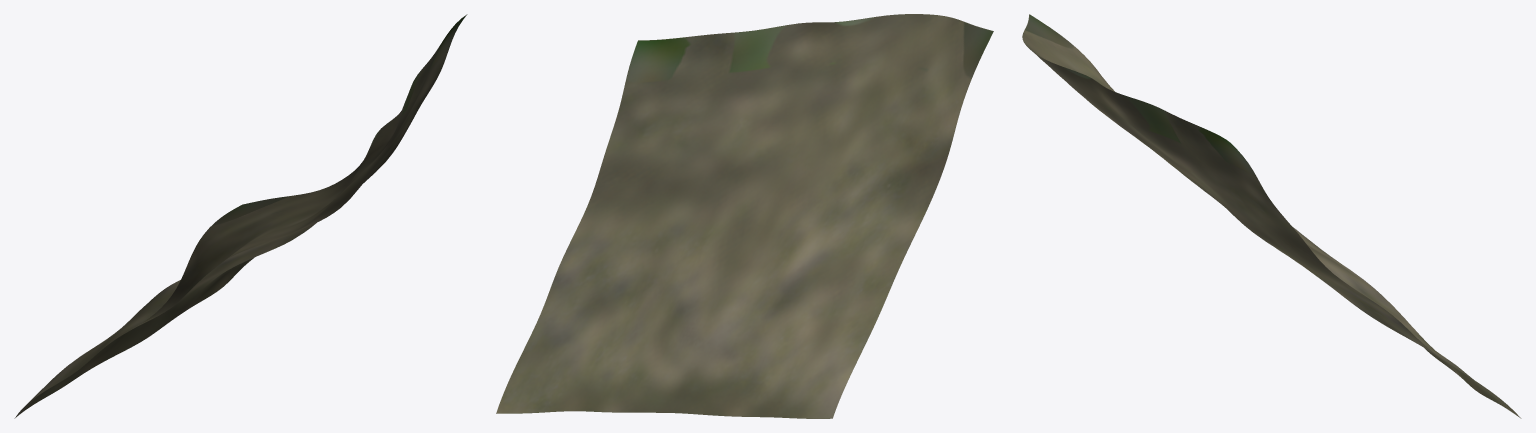
The model's file is ground_mid_06_09.obj.
The picture shows the model from 3 angles, left to right: view 1: azimuth 30°, elevation 25°; view 2: azimuth 150°, elevation 25°; view 3: azimuth 270°, elevation 25°; orthographic projection. The views are drawn at different scales.
Parts seen in each view (by area): view 1: ground_mid_06_09; view 2: ground_mid_06_09; view 3: ground_mid_06_09.
Boxes of the visible parts, box(x1,y1,x2,y2) form: ground_mid_06_09: box(14, 14, 467, 418); ground_mid_06_09: box(496, 14, 993, 418); ground_mid_06_09: box(1022, 14, 1521, 418).
Size of the model in its own units: 200 by 200 by 328.
Materials: 1 (1 with a texture image).
